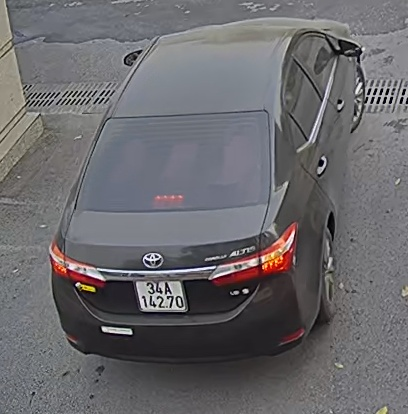vehicle plate: (126, 271, 189, 314)
